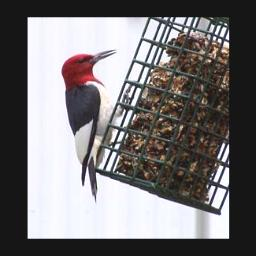Woodpecker: (60, 48, 132, 202)
